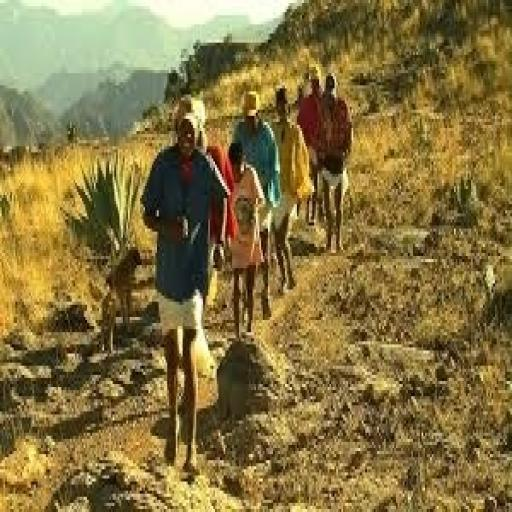running: (138, 98, 232, 482)
